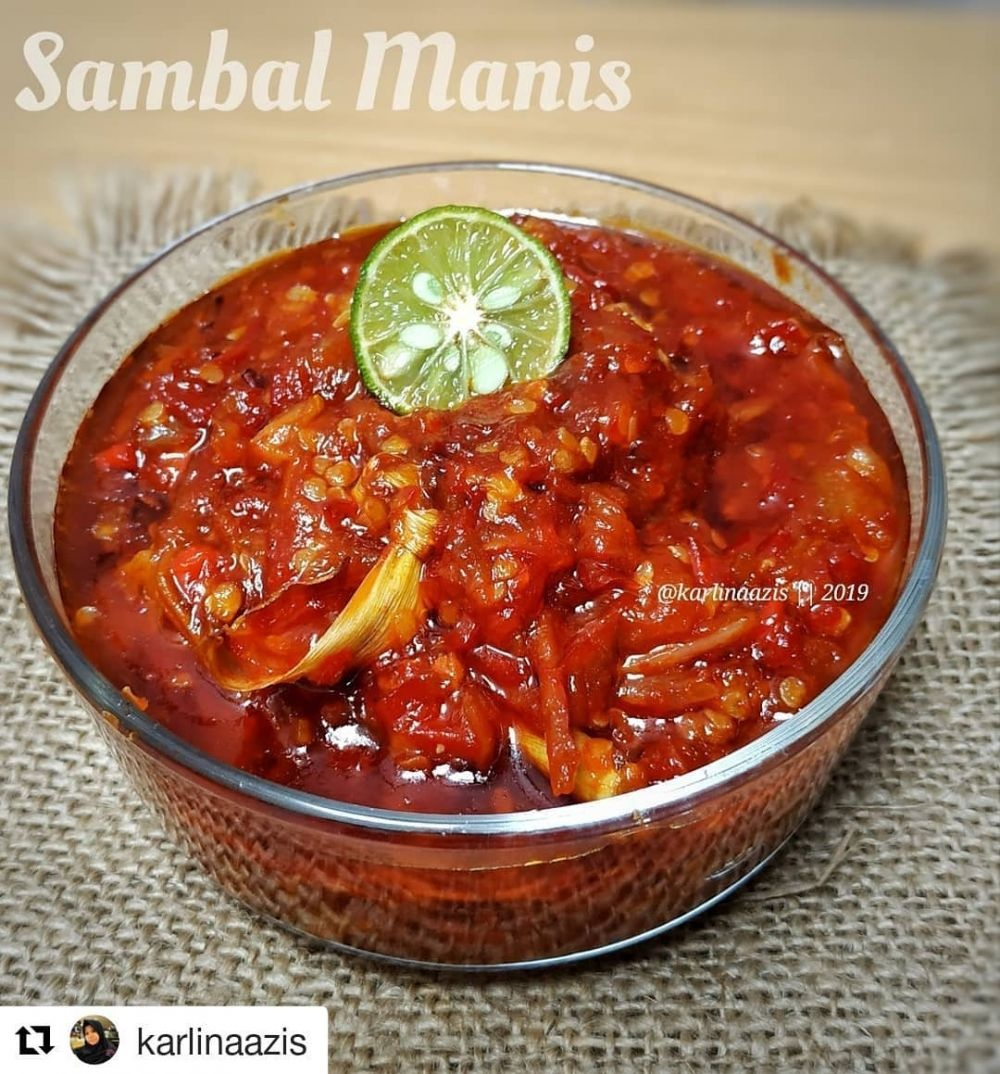sambal: (99, 209, 866, 789)
